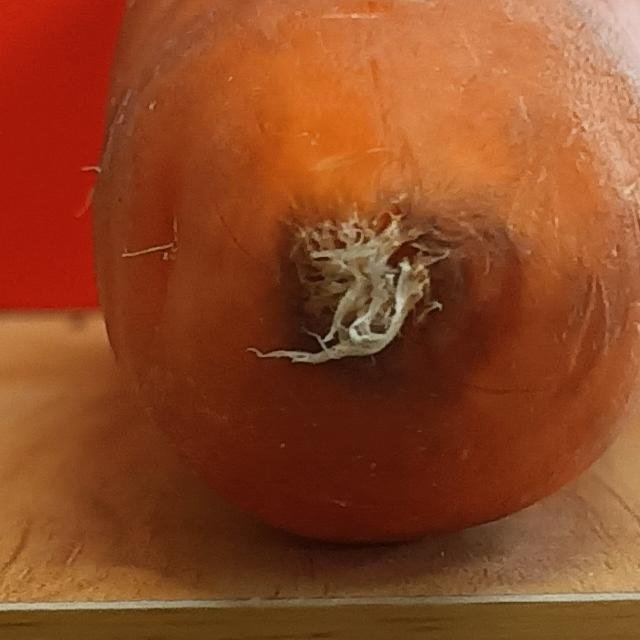carrot: (88, 1, 640, 555)
